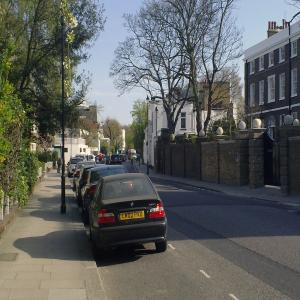Vehicle-registration-plate: (121, 212, 145, 221)
